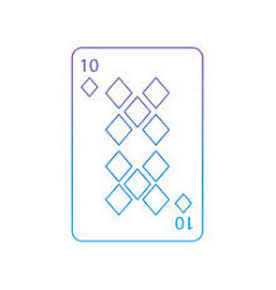TenOfDiamonds: (70, 42, 209, 244)
